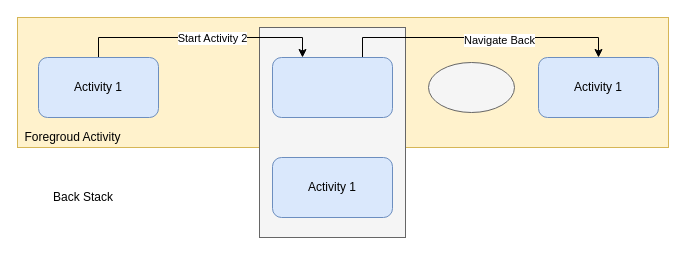
This 686x255 diagram has some shape labels left out. The shapes that lost their labels are listed below. From the top down, each one's centre as x and y in pixels, then its label:
point (332, 87): Activity 2
point (471, 87): Activity 2 destroyed
